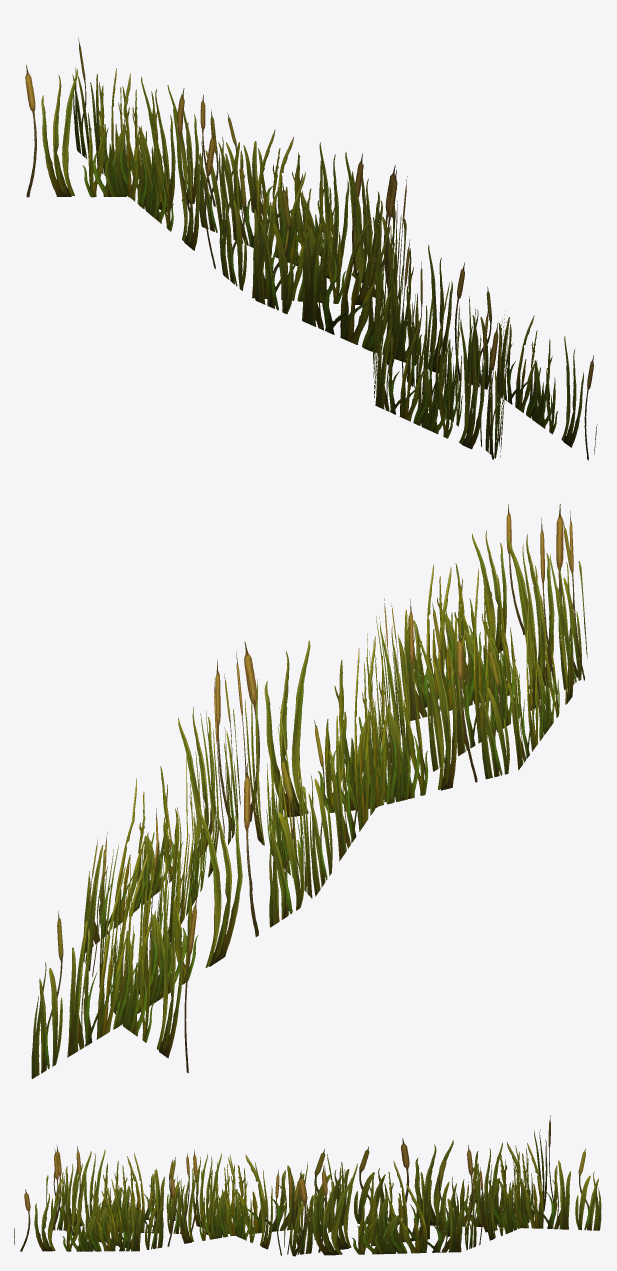
File: wetlandsshurb08.obj
The picture shows the model from 3 angles, top to bottom: view 1: azimuth 30°, elevation 25°; view 2: azimuth 150°, elevation 25°; view 3: azimuth 270°, elevation 25°; orthographic projection. The views are drawn at different scales.
Visible parts, largest first — view 1: WETLANDSSHURB080; view 2: WETLANDSSHURB080; view 3: WETLANDSSHURB080.
Boxes of the visible parts, left/top/right/bottom form: WETLANDSSHURB080: left=25, top=37, right=597, bottom=460; WETLANDSSHURB080: left=31, top=504, right=587, bottom=1078; WETLANDSSHURB080: left=14, top=1115, right=601, bottom=1256.
Size of the model in its own units: 5.41 by 3.78 by 22.48.
1 material, 1 textured.
